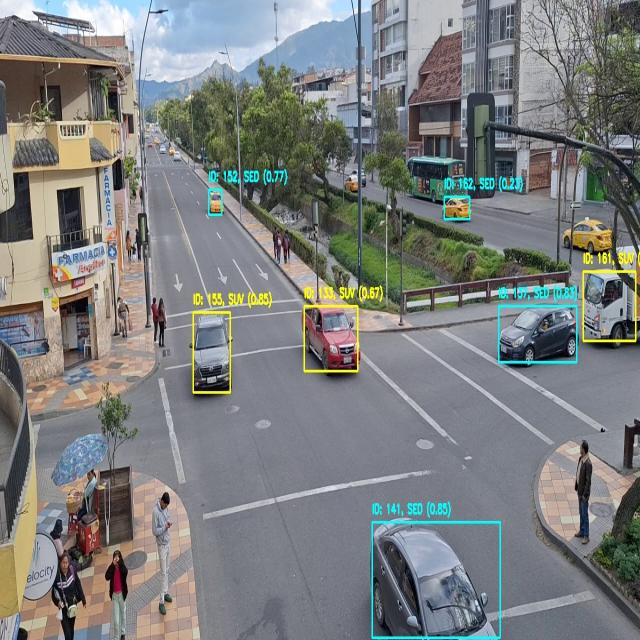BUS: (408, 156, 465, 201)
CMT: (304, 304, 360, 373)
SED: (374, 524, 495, 638), (499, 304, 578, 364), (444, 196, 471, 220)
SUV: (194, 316, 230, 391)
